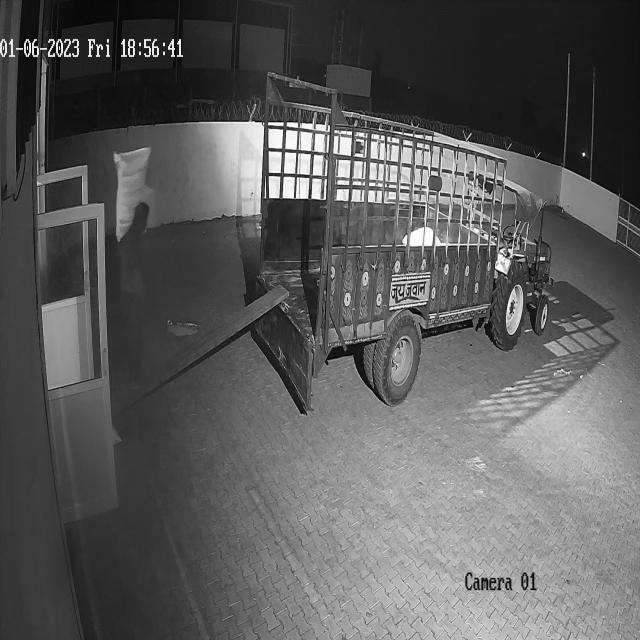sack: (113, 146, 150, 242)
